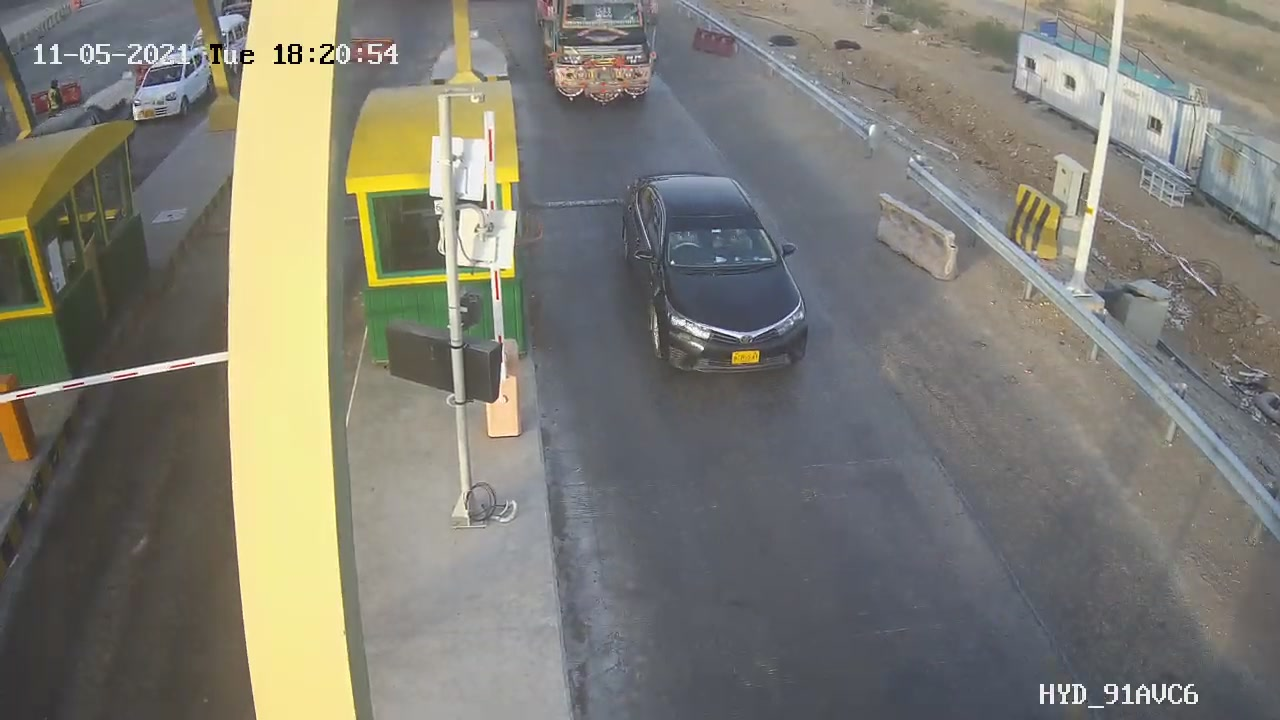F1: (620, 175, 824, 385)
